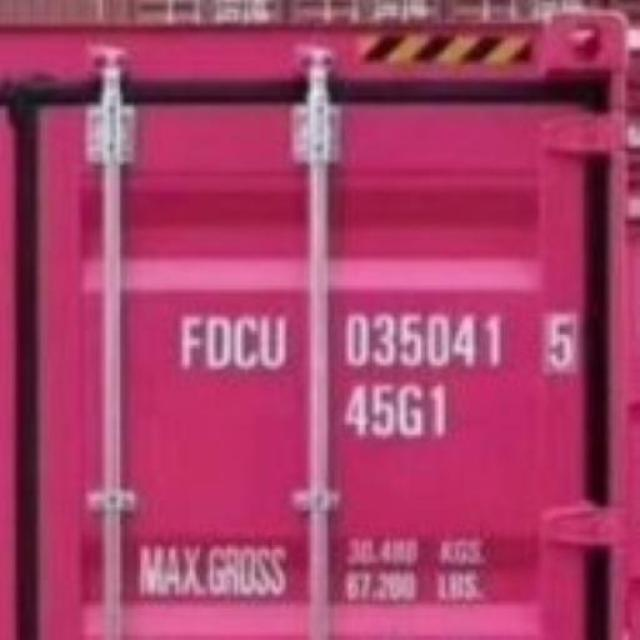ISO: (337, 383, 450, 436)
container_number: (177, 310, 577, 373)
